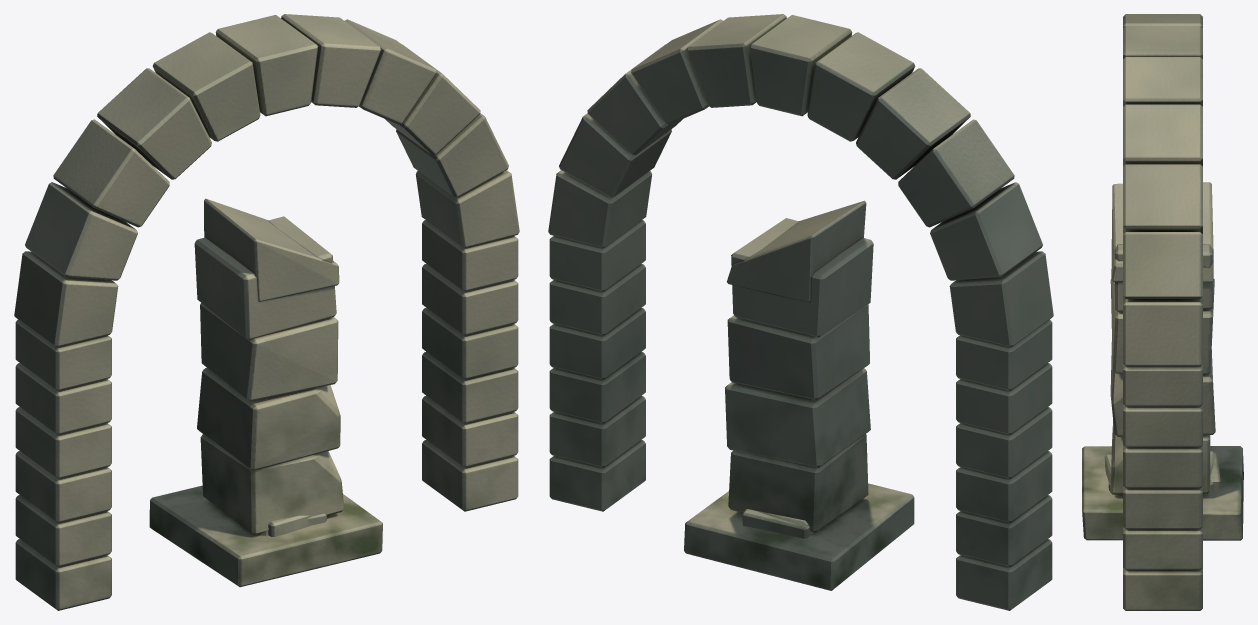
The model's file is ruins.glb.
The picture shows the model from 3 angles, left to right: view 1: azimuth 30°, elevation 25°; view 2: azimuth 150°, elevation 25°; view 3: azimuth 270°, elevation 25°; orthographic projection. The views are drawn at different scales.
Visible parts, largest first — view 1: Arch_Ruin, Column_Broken; view 2: Arch_Ruin, Column_Broken, Masonry_3; view 3: Arch_Ruin, Column_Broken, Masonry_3.
Boxes of the visible parts, x1=… form: Arch_Ruin: x1=14, y1=14, x2=519, y2=610; Column_Broken: x1=149, y1=198, x2=382, y2=587; Arch_Ruin: x1=548, y1=14, x2=1053, y2=610; Column_Broken: x1=684, y1=200, x2=914, y2=590; Masonry_3: x1=742, y1=509, x2=813, y2=538; Arch_Ruin: x1=1123, y1=14, x2=1202, y2=610; Column_Broken: x1=1082, y1=182, x2=1243, y2=540; Masonry_3: x1=1104, y1=453, x2=1220, y2=491.
Size of what is drawn, in the model's own units: 5.31 by 5.52 by 1.72.
Materials: 1 (1 with a texture image).
